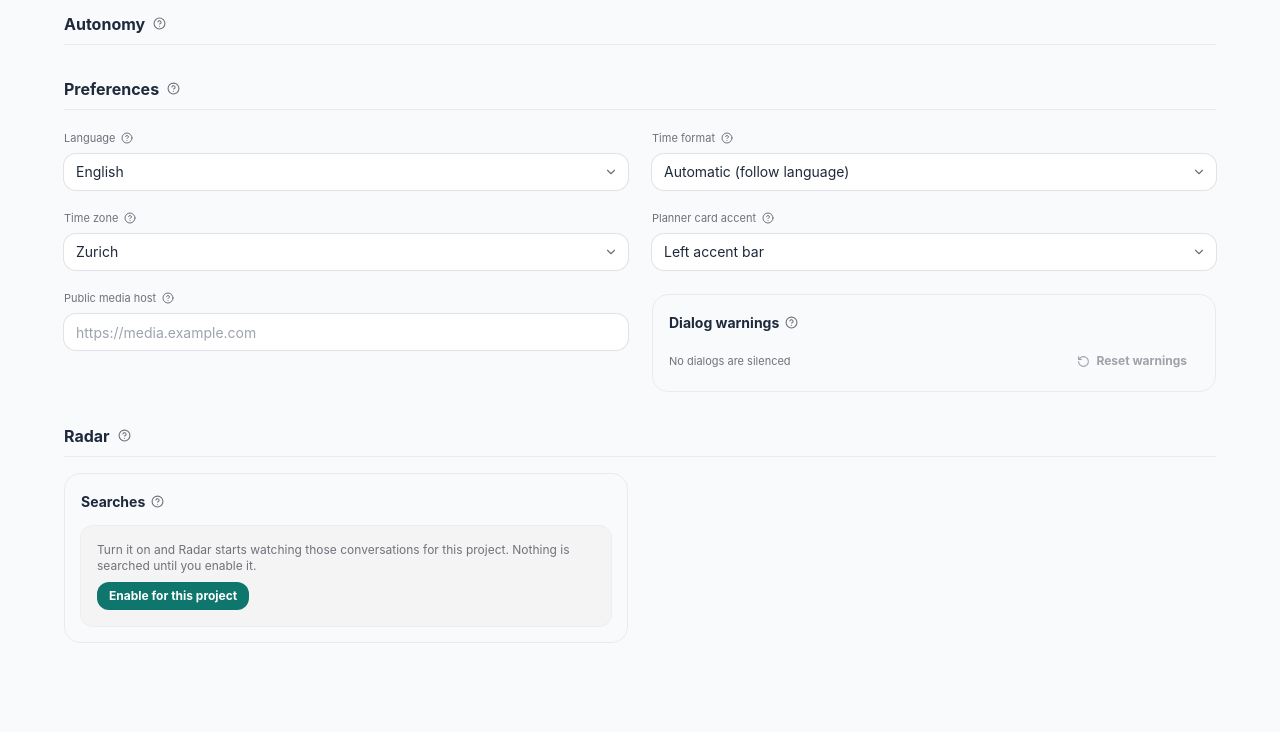
Test case: Settings public media host (spec 39 §4.0) › a rejected write reverts the field and shows the inline validation error
Step 1. Type "notaurl" into the field labelled "Public media host" → (346, 332), box [64,314,628,350]
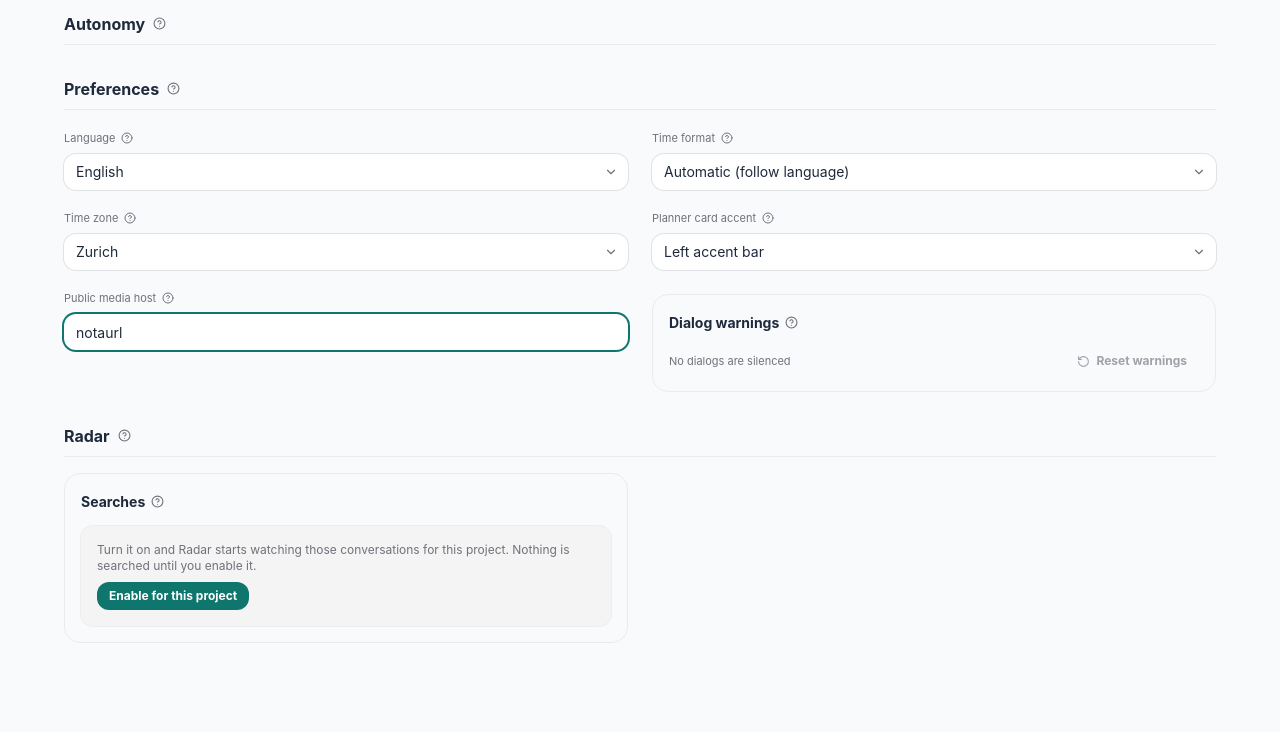
Step 2. Press Tab
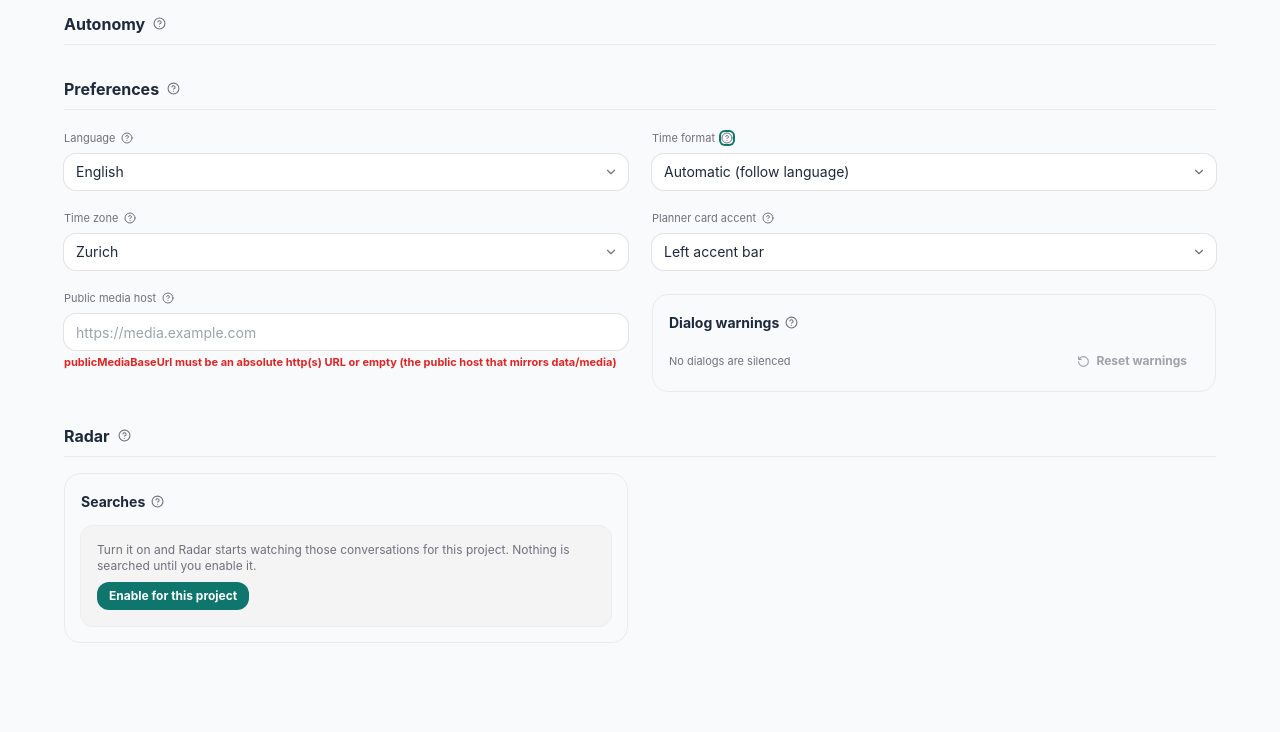
Expected: the message shows "publicMediaBaseUrl must be an absolute", [64,355,617,369]
Expected: the field labelled "Public media host" is empty, [64,314,628,350]
